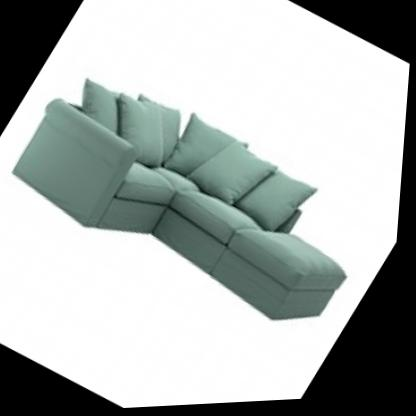Sofa: (0, 20, 410, 386)
